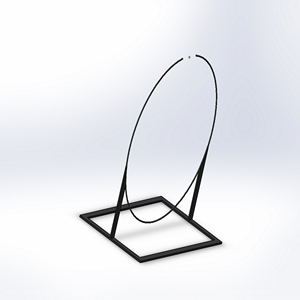circle: (76, 52, 223, 263)
